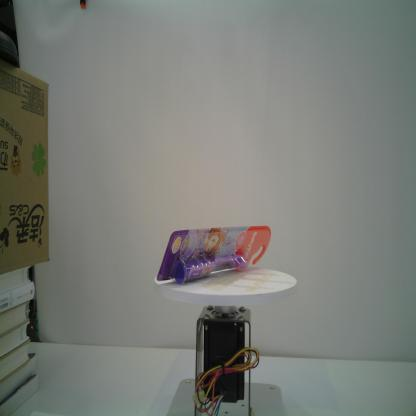Personal Hygiene: (156, 224, 272, 285)
